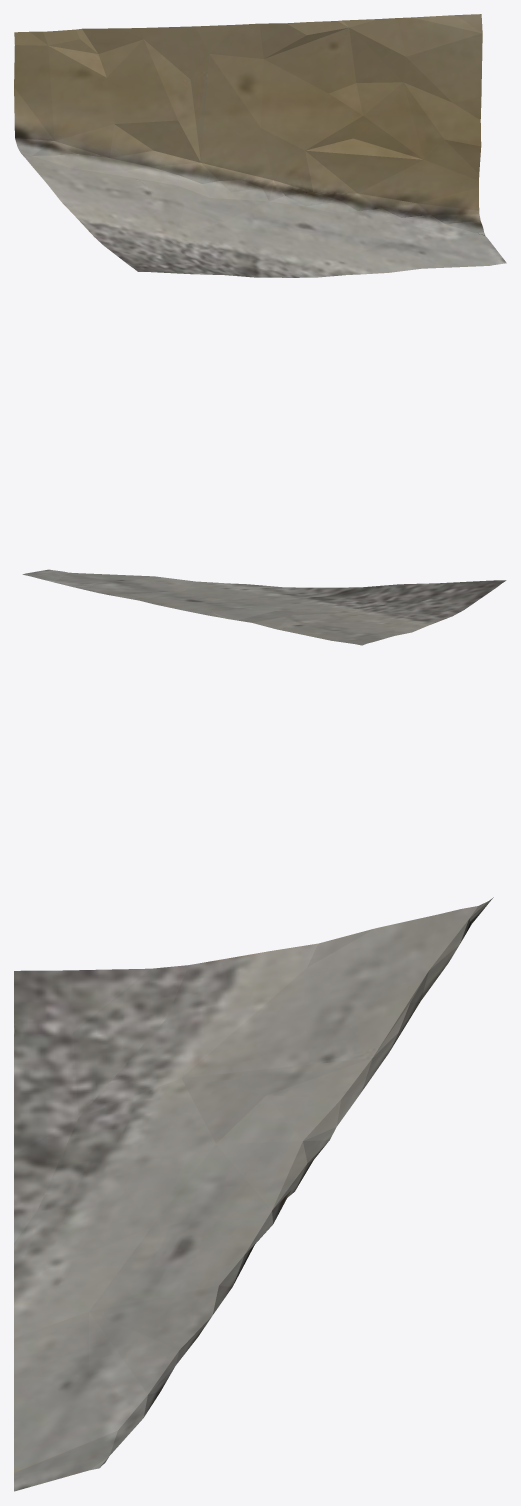
3 renders of one model, top to bottom at view 1: azimuth 30°, elevation 25°; view 2: azimuth 150°, elevation 25°; view 3: azimuth 270°, elevation 25°, orthographic. The views are drawn at different scales.
Bounding box in the file's own units: 0.8373 × 0.4999 × 0.4868.
2 materials, 2 textured.
